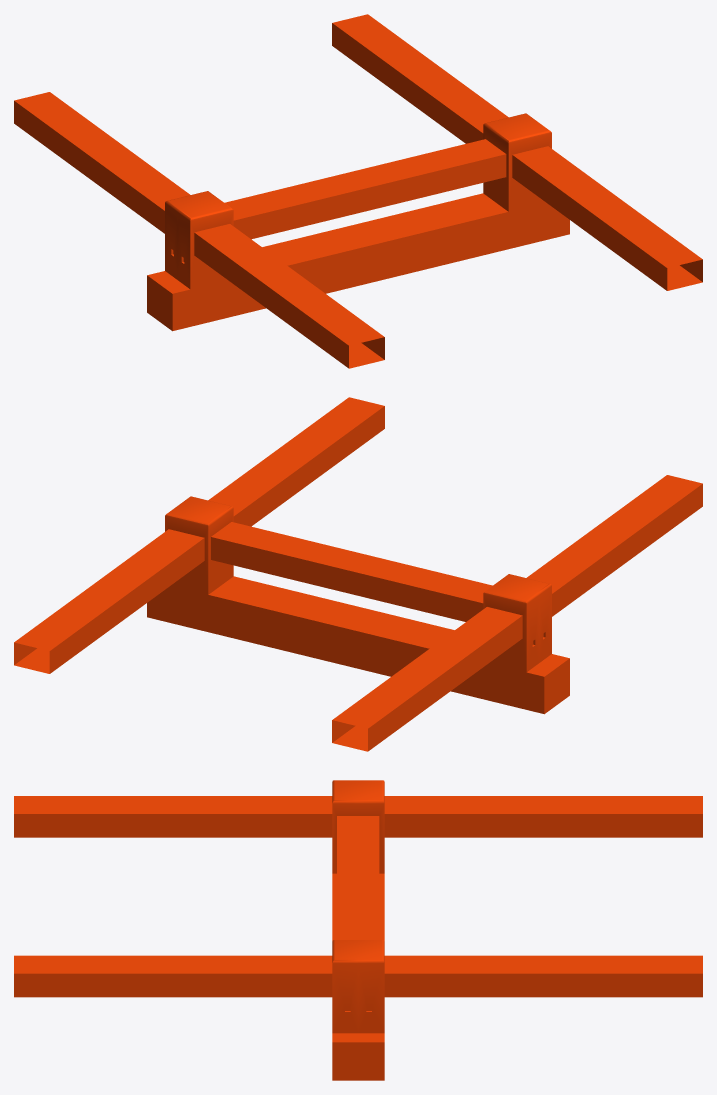
File: Shelf_06_Mid_Under_02.glb
3 renders of one model, top to bottom at view 1: azimuth 30°, elevation 25°; view 2: azimuth 150°, elevation 25°; view 3: azimuth 270°, elevation 25°, orthographic. The views are drawn at different scales.
Parts seen in each view (by area): view 1: Mesh_Shelf_06_Mid_Under_02; view 2: Mesh_Shelf_06_Mid_Under_02; view 3: Mesh_Shelf_06_Mid_Under_02.
Part boxes in pixels (bbox=[...]): Mesh_Shelf_06_Mid_Under_02: bbox=[14, 14, 702, 368]; Mesh_Shelf_06_Mid_Under_02: bbox=[14, 397, 702, 751]; Mesh_Shelf_06_Mid_Under_02: bbox=[14, 780, 702, 1080].
Size of the model in its own units: 1.11 by 0.2884 by 1.62.
1 material, 1 textured.
